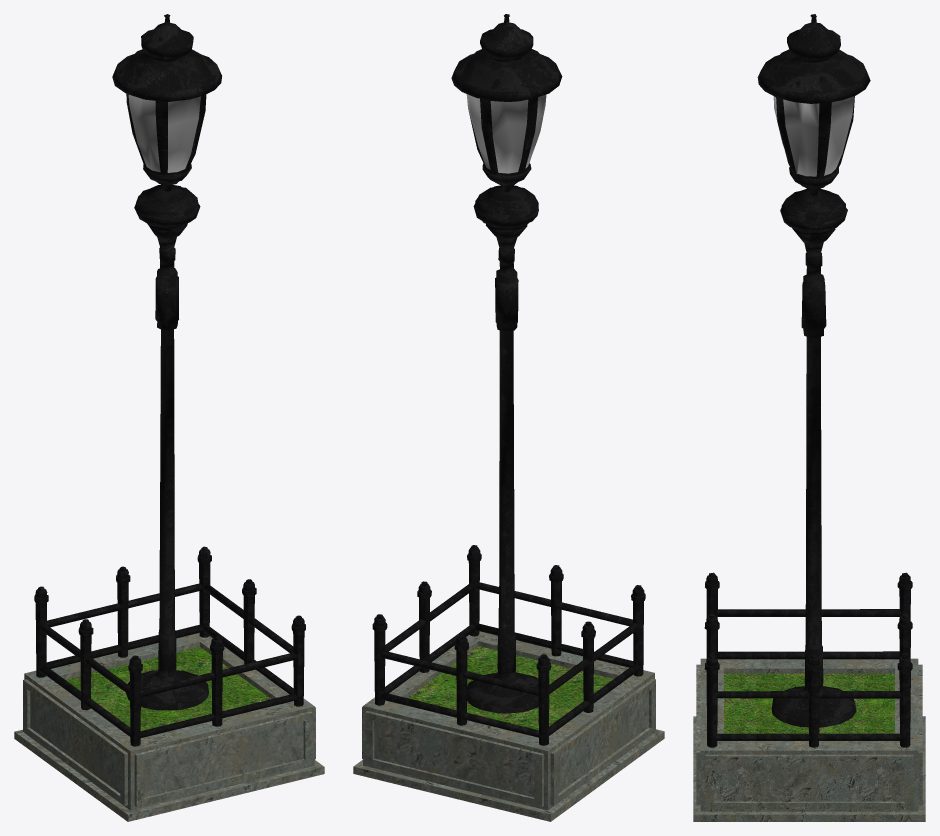
The model's file is objLamp.obj.
The picture shows the model from 3 angles, left to right: view 1: azimuth 30°, elevation 25°; view 2: azimuth 150°, elevation 25°; view 3: azimuth 270°, elevation 25°; orthographic projection. The views are drawn at different scales.
Visible parts, largest first — view 1: LampRender:floor_Lamp, Lamp_lamp1, Lamp_LampRender:fence; view 2: LampRender:floor_Lamp, Lamp_lamp1, Lamp_LampRender:fence; view 3: LampRender:floor_Lamp, Lamp_lamp1, Lamp_LampRender:fence.
Boxes of the visible parts, box(x1,y1,x2,y2) form: LampRender:floor_Lamp: box(14, 633, 324, 821); Lamp_lamp1: box(112, 14, 221, 710); Lamp_LampRender:fence: box(34, 546, 305, 746); LampRender:floor_Lamp: box(353, 631, 664, 821); Lamp_lamp1: box(451, 14, 562, 713); Lamp_LampRender:fence: box(372, 545, 645, 745); LampRender:floor_Lamp: box(693, 658, 925, 821); Lamp_lamp1: box(757, 14, 870, 727); Lamp_LampRender:fence: box(704, 572, 912, 747).
Size of the model in its own units: 3.36 by 12.09 by 3.36.
4 materials, 3 textured.
